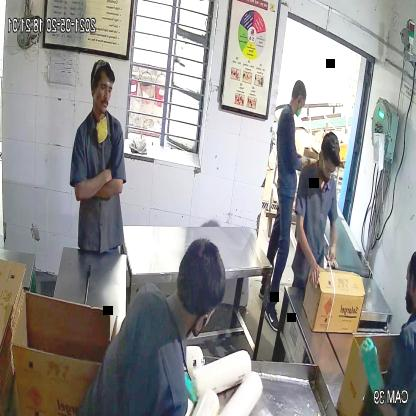no_goggles: (91, 74, 117, 98)
